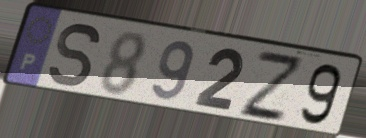2: (191, 46, 247, 115)
8: (98, 29, 151, 98)
9: (149, 39, 197, 105), (299, 63, 344, 126)
S: (47, 21, 104, 91)
Z: (237, 47, 304, 124)
